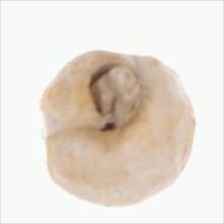L3: (85, 60, 147, 129)
L4: (41, 49, 197, 207)
